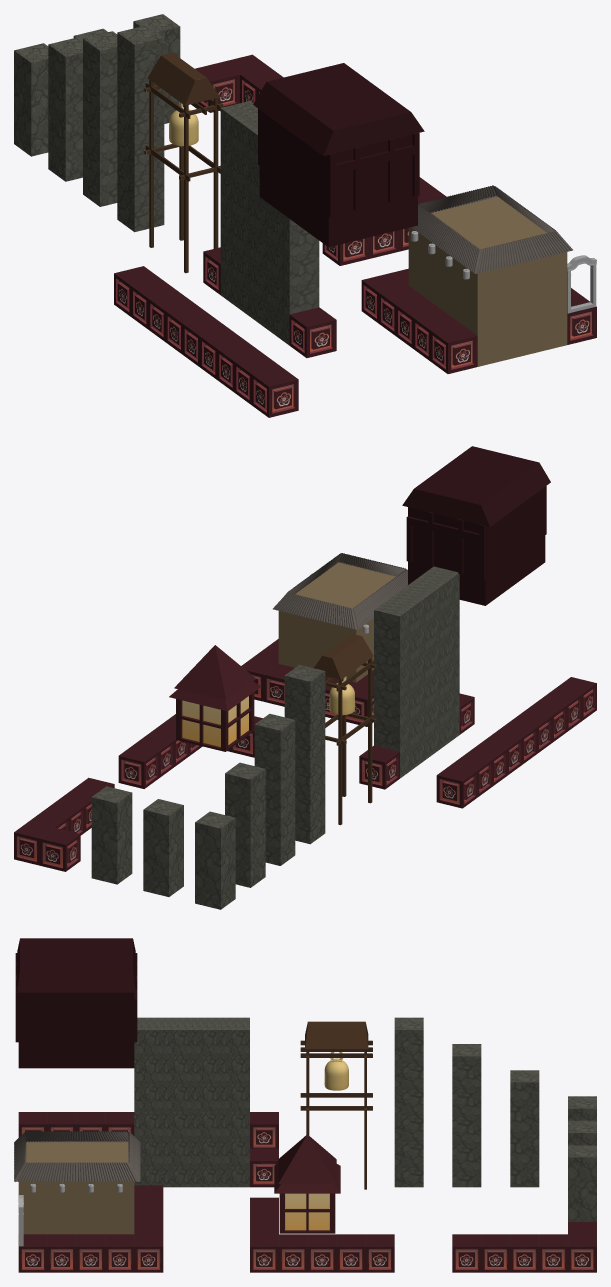
Rendered from Greybox_2-2V2.fbx.
3 views of the same model, one above another, from view 1: azimuth 30°, elevation 25°; view 2: azimuth 150°, elevation 25°; view 3: azimuth 270°, elevation 25° (orthographic). The views are drawn at different scales.
Parts seen in each view (by area): view 1: polySurface66, pCube98, pPyramid4, polySurface70, pPyramid5, polySurface88, polySurface81, polySurface67, polySurface98, polySurface80, polySurface99, polySurface97 (+28 smaller); view 2: pCube98, pPyramid4, Pavillion_02, polySurface98, polySurface70, polySurface66, polySurface88, pPyramid5, polySurface81, polySurface295, polySurface80, polySurface294 (+25 smaller); view 3: pCube98, polySurface66, pPyramid4, Pavillion_02, polySurface70, polySurface97, polySurface98, polySurface99, polySurface67, pPyramid5, polySurface88, polySurface81 (+28 smaller).
Part boxes in pixels (x1=…): polySurface66: x1=408, y1=197, x2=567, y2=366; pCube98: x1=258, y1=108, x2=419, y2=247; pPyramid4: x1=253, y1=63, x2=424, y2=155; polySurface70: x1=117, y1=25, x2=164, y2=232; pPyramid5: x1=144, y1=52, x2=223, y2=273; polySurface88: x1=83, y1=31, x2=117, y2=206; polySurface81: x1=48, y1=37, x2=82, y2=181; polySurface67: x1=272, y1=206, x2=319, y2=345; polySurface98: x1=220, y1=100, x2=257, y2=307; polySurface80: x1=14, y1=43, x2=48, y2=156; polySurface99: x1=238, y1=116, x2=257, y2=319; polySurface97: x1=255, y1=132, x2=272, y2=332; pCube98: x1=406, y1=486, x2=546, y2=605; pPyramid4: x1=402, y1=446, x2=550, y2=526; Pavillion_02: x1=169, y1=645, x2=261, y2=751; polySurface98: x1=374, y1=599, x2=414, y2=778; polySurface70: x1=284, y1=664, x2=325, y2=844; polySurface66: x1=278, y1=562, x2=395, y2=682; polySurface88: x1=254, y1=713, x2=295, y2=865; pPyramid5: x1=314, y1=634, x2=376, y2=825; polySurface81: x1=225, y1=762, x2=265, y2=887; polySurface295: x1=91, y1=786, x2=132, y2=884; polySurface80: x1=195, y1=811, x2=235, y2=909; polySurface294: x1=143, y1=799, x2=183, y2=896; pCube98: x1=15, y1=953, x2=137, y2=1068; polySurface66: x1=18, y1=1142, x2=134, y2=1234; pPyramid4: x1=17, y1=938, x2=135, y2=992; Pavillion_02: x1=274, y1=1134, x2=340, y2=1233; polySurface70: x1=394, y1=1017, x2=423, y2=1187; polySurface97: x1=163, y1=1017, x2=192, y2=1187; polySurface98: x1=221, y1=1017, x2=249, y2=1187; polySurface99: x1=192, y1=1017, x2=220, y2=1187; polySurface67: x1=134, y1=1017, x2=163, y2=1185; pPyramid5: x1=300, y1=1021, x2=372, y2=1189; polySurface88: x1=452, y1=1044, x2=481, y2=1187; polySurface81: x1=510, y1=1070, x2=539, y2=1187.
Size of the model in its own units: 22 by 17.47 by 40.33.
